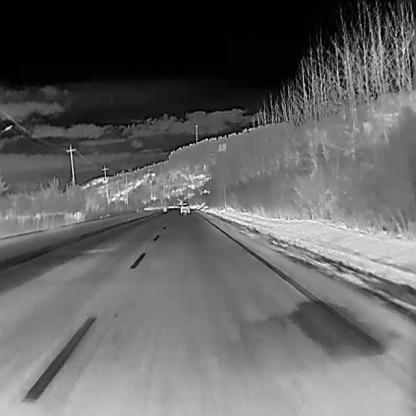car: (180, 200, 190, 214)
